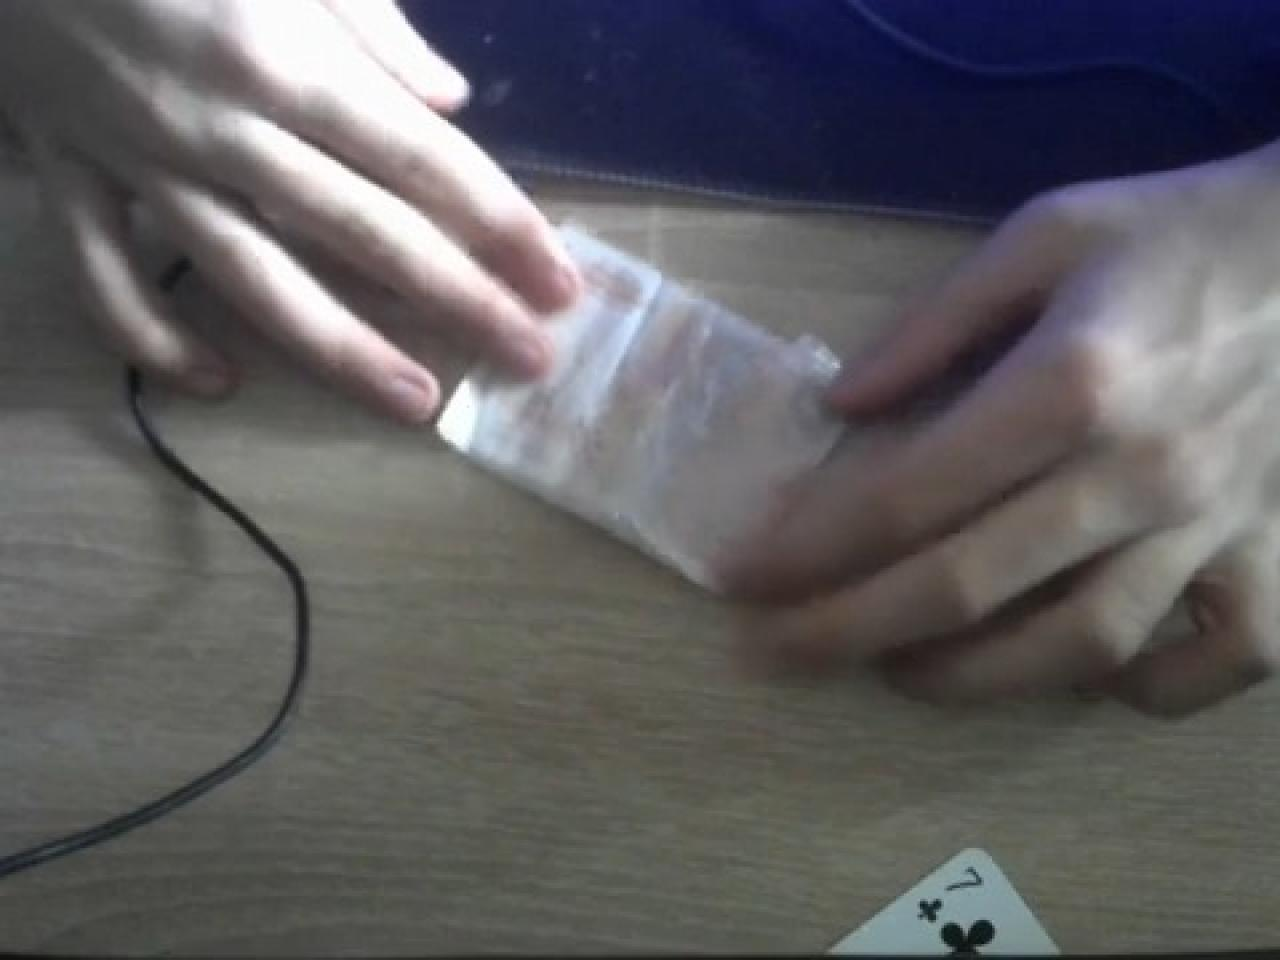5leva: (429, 144, 1280, 701)
